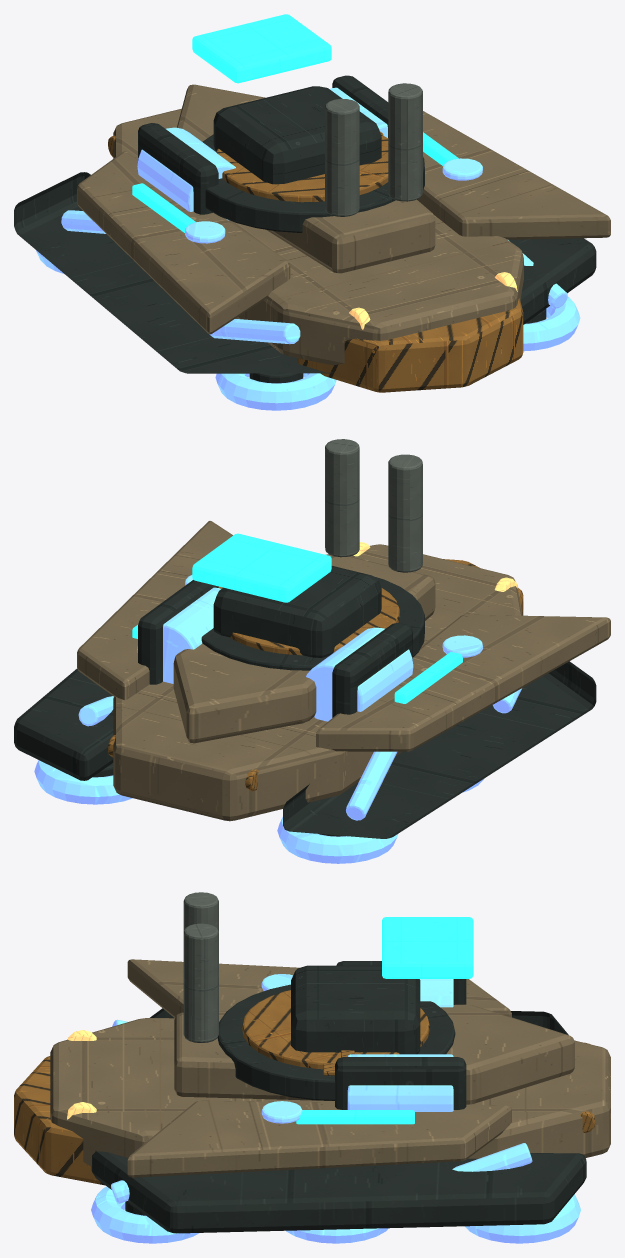
The model's file is lumen_raider.glb.
3 renders of one model, top to bottom at view 1: azimuth 30°, elevation 25°; view 2: azimuth 150°, elevation 25°; view 3: azimuth 270°, elevation 25°, orthographic.
Parts seen in each view (by area): view 1: Faction detail · Vehicle / armor_light.011, Faction detail · Vehicle / dark.011, Prisma · swept faceted hover hull, Faction detail · Vehicle / dark.001, Faction detail · Vehicle / energy.005, Ramming prow, Faction detail · Vehicle / steel.011, TeamColor, Indexed azimuth bearing, TeamColor flank details; view 2: Faction detail · Vehicle / armor_light.011, Faction detail · Vehicle / dark.011, Prisma · swept faceted hover hull, Faction detail · Vehicle / energy.005, Faction detail · Vehicle / dark.001, Faction detail · Vehicle / steel.011, TeamColor, Indexed azimuth bearing, TeamColor flank details; view 3: Faction detail · Vehicle / armor_light.011, Faction detail · Vehicle / dark.011, Prisma · swept faceted hover hull, Faction detail · Vehicle / dark.001, Faction detail · Vehicle / energy.005, TeamColor, Faction detail · Vehicle / steel.011, Ramming prow, Indexed azimuth bearing, TeamColor flank details, Faction detail · Vehicle / amber.011.
Boxes of the visible parts, x1,y1,x2,y2 form: Faction detail · Vehicle / armor_light.011: (77, 84, 610, 334); Faction detail · Vehicle / dark.011: (14, 75, 596, 383); Prisma · swept faceted hover hull: (113, 108, 523, 365); Faction detail · Vehicle / dark.001: (202, 86, 424, 232); Faction detail · Vehicle / energy.005: (36, 87, 580, 410); Ramming prow: (297, 298, 523, 392); Faction detail · Vehicle / steel.011: (325, 83, 422, 216); TeamColor: (192, 14, 331, 83); Indexed azimuth bearing: (216, 136, 388, 202); TeamColor flank details: (132, 132, 458, 232); Faction detail · Vehicle / armor_light.011: (77, 521, 610, 751); Faction detail · Vehicle / dark.011: (14, 580, 596, 838); Prisma · swept faceted hover hull: (113, 544, 522, 821); Faction detail · Vehicle / energy.005: (34, 575, 521, 863); Faction detail · Vehicle / dark.001: (201, 566, 424, 670); Faction detail · Vehicle / steel.011: (325, 439, 422, 572); TeamColor: (192, 533, 331, 602); Indexed azimuth bearing: (230, 588, 399, 655); TeamColor flank details: (132, 625, 462, 703); Faction detail · Vehicle / armor_light.011: (127, 959, 574, 1177); Faction detail · Vehicle / dark.011: (91, 961, 586, 1233); Prisma · swept faceted hover hull: (50, 1018, 610, 1166); Faction detail · Vehicle / dark.001: (217, 965, 455, 1100); Faction detail · Vehicle / energy.005: (91, 974, 580, 1243); TeamColor: (382, 917, 473, 978); Faction detail · Vehicle / steel.011: (183, 892, 218, 1042); Ramming prow: (14, 1056, 105, 1185); Indexed azimuth bearing: (242, 990, 429, 1069); TeamColor flank details: (296, 1110, 414, 1124); Faction detail · Vehicle / amber.011: (67, 1030, 96, 1119).
Size of the model in its own units: 2.49 by 1.46 by 3.05.
Materials: 9 (9 with a texture image).
